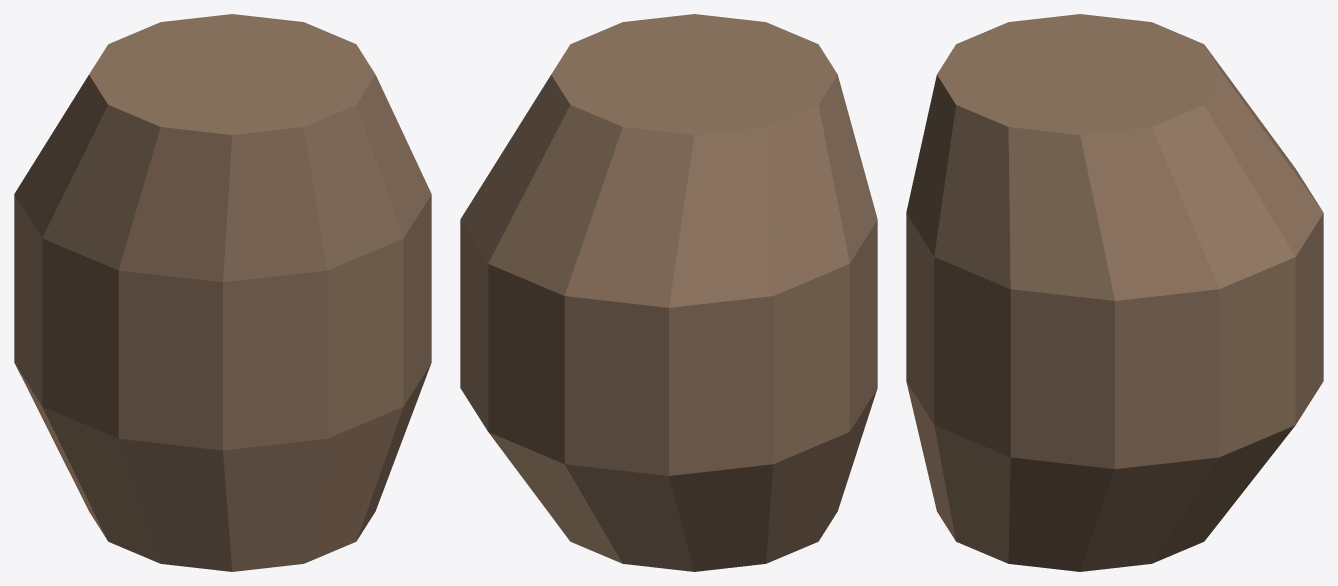
File: barrel.FBX
3 renders of one model, left to right at view 1: azimuth 30°, elevation 25°; view 2: azimuth 150°, elevation 25°; view 3: azimuth 270°, elevation 25°, orthographic.
Visible parts, largest first — view 1: Cylinder001; view 2: Cylinder001; view 3: Cylinder001.
Part boxes in pixels (<box>): Cylinder001: <box>14,14,431,571</box>; Cylinder001: <box>460,14,877,571</box>; Cylinder001: <box>906,14,1323,571</box>.
Size of the model in its own units: 30 by 34.64 by 30.
